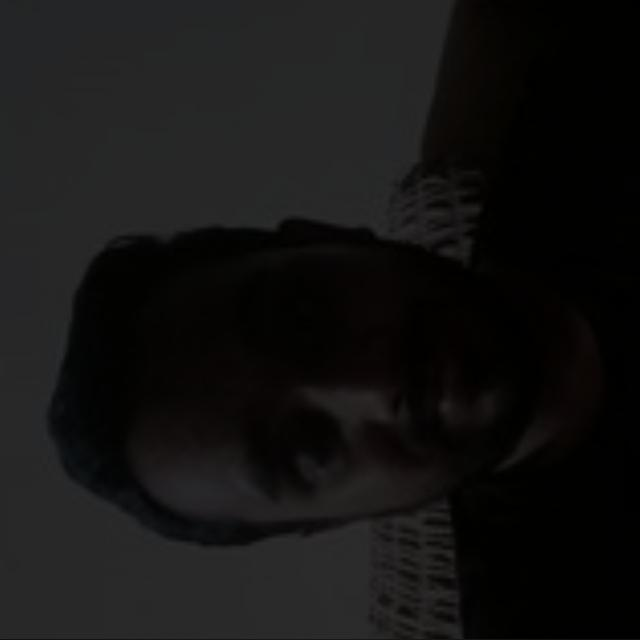Disgust: (66, 193, 544, 562)
